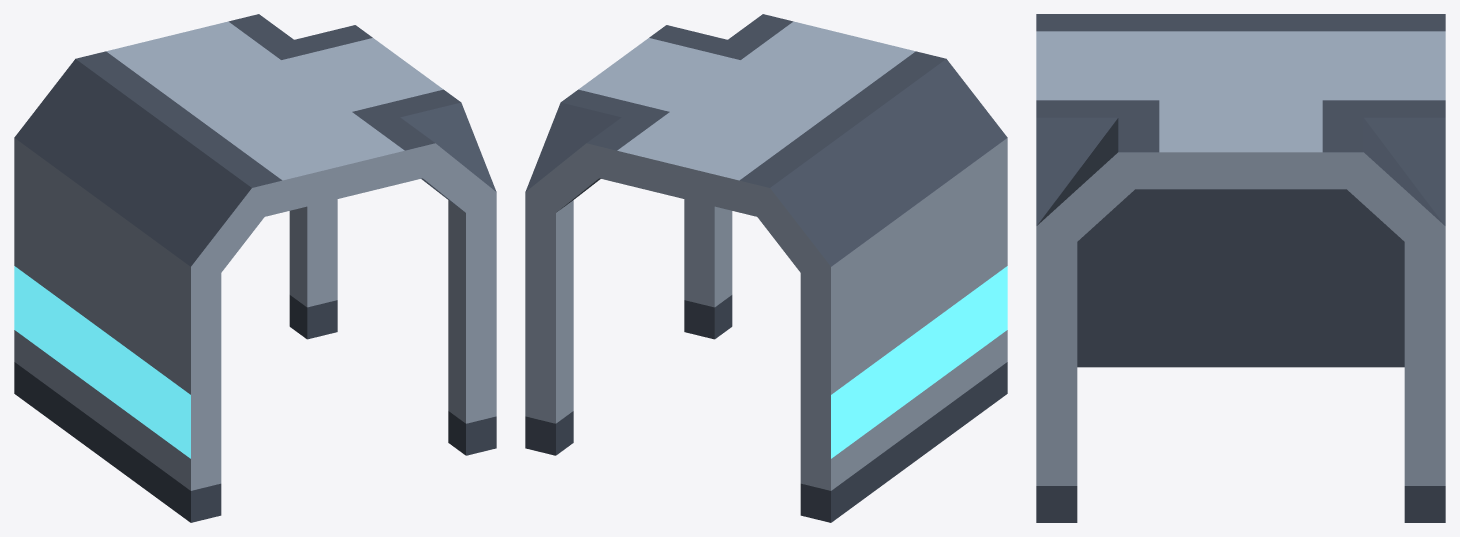
The model's file is corridor_split.glb.
The picture shows the model from 3 angles, left to right: view 1: azimuth 30°, elevation 25°; view 2: azimuth 150°, elevation 25°; view 3: azimuth 270°, elevation 25°; orthographic projection. The views are drawn at different scales.
Visible parts, largest first — view 1: corridor_split; view 2: corridor_split; view 3: corridor_split.
Boxes of the visible parts, <box> form: corridor_split: <box>14,14,496,522</box>; corridor_split: <box>525,14,1007,522</box>; corridor_split: <box>1036,14,1445,522</box>.
Size of the model in its own units: 1 by 1 by 1.
